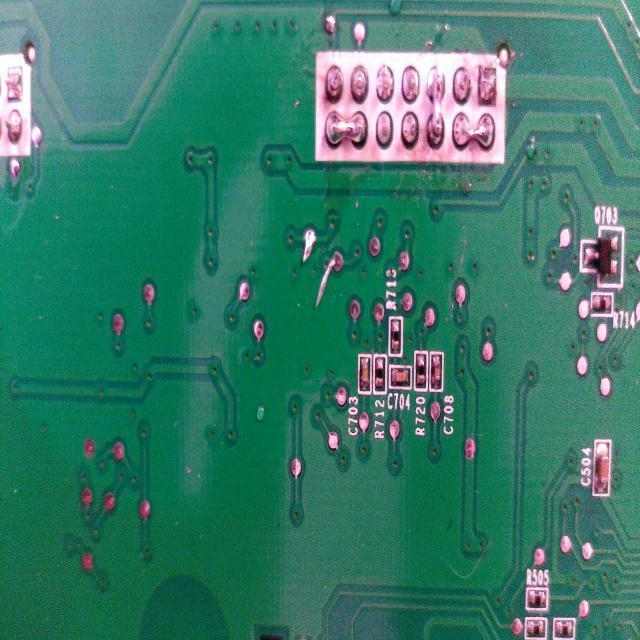Soldering shorted: (324, 106, 369, 150), (454, 108, 494, 156), (426, 62, 445, 151)
